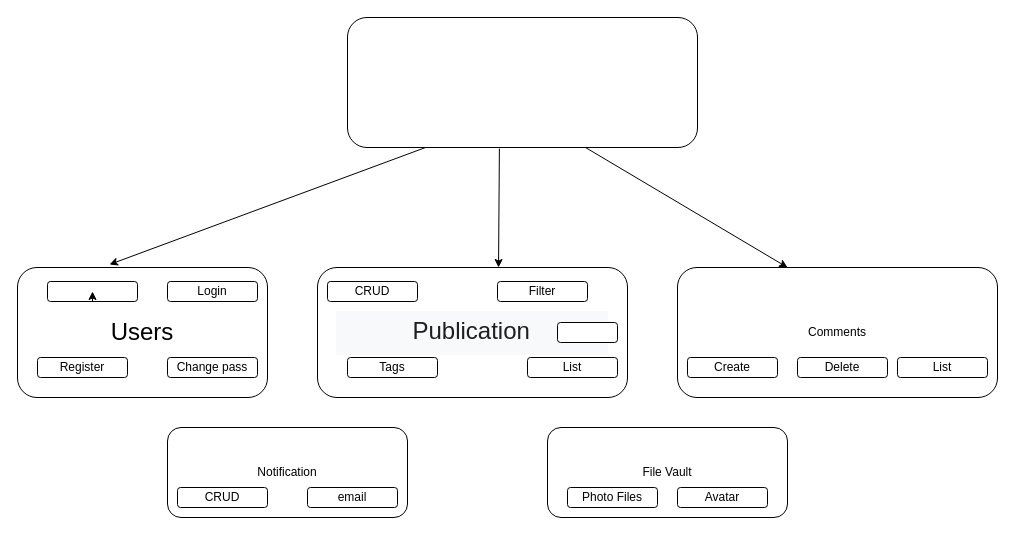
This 1015x535 diagram has some shape labels left out. The centre of each missing label's shape, as x and y in pixels:
API Gateway: point (522, 82)
Detailing: point (92, 291)
Repost: point (587, 332)
